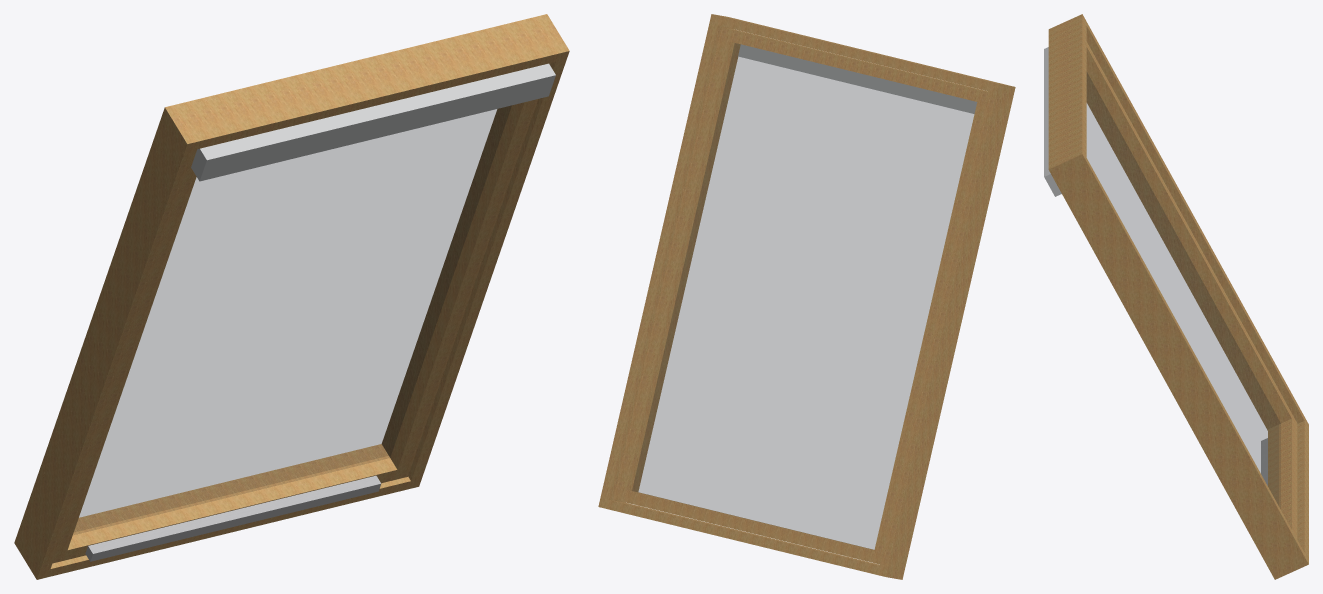
Rendered from recfnx53yGO9ZsrVa.glb.
The picture shows the model from 3 angles, left to right: view 1: azimuth 30°, elevation 25°; view 2: azimuth 150°, elevation 25°; view 3: azimuth 270°, elevation 25°; orthographic projection. The views are drawn at different scales.
Visible parts, largest first — view 1: velux_dressing__ouvrant, velux_dressing__cadre; view 2: velux_dressing__ouvrant, velux_dressing__cadre; view 3: velux_dressing__cadre, velux_dressing__ouvrant.
Boxes of the visible parts, x1=… form: velux_dressing__ouvrant: x1=53, y1=63, x2=555, y2=563; velux_dressing__cadre: x1=14, y1=14, x2=569, y2=579; velux_dressing__ouvrant: x1=613, y1=27, x2=988, y2=564; velux_dressing__cadre: x1=598, y1=14, x2=1015, y2=579; velux_dressing__cadre: x1=1048, y1=14, x2=1308, y2=579; velux_dressing__ouvrant: x1=1044, y1=42, x2=1297, y2=538.
Bounding box in the file's own units: 0.8751 × 1.24 × 0.6981.
4 materials, 2 textured.
